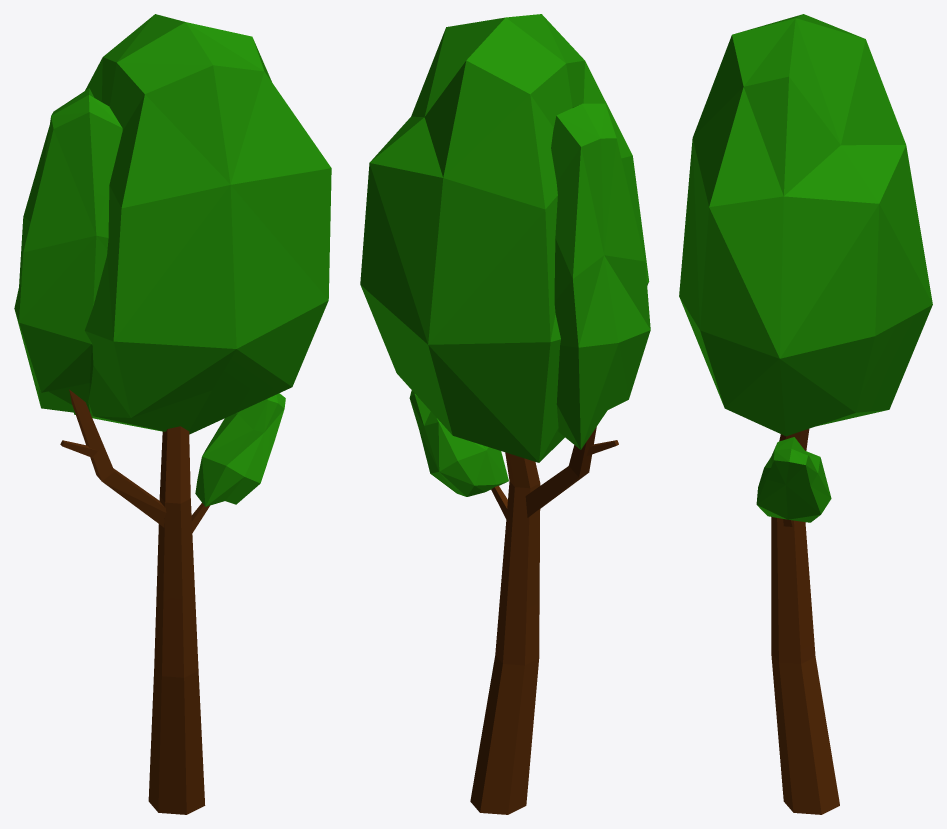
Rendered from Tree_temp_climate_006.FBX.
3 renders of one model, left to right at view 1: azimuth 30°, elevation 25°; view 2: azimuth 150°, elevation 25°; view 3: azimuth 270°, elevation 25°, orthographic.
Visible parts, largest first — view 1: Tree_temp_climate_006; view 2: Tree_temp_climate_006; view 3: Tree_temp_climate_006.
Part boxes in pixels (x1,y1,x2,y2): Tree_temp_climate_006: [14, 14, 331, 814]; Tree_temp_climate_006: [360, 14, 650, 814]; Tree_temp_climate_006: [679, 14, 932, 814].
Size of the model in its own units: 249 by 648 by 190.
